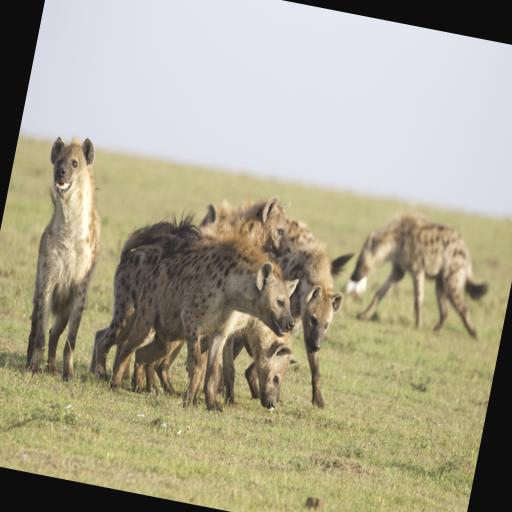hyenas: (0, 62, 512, 512)
